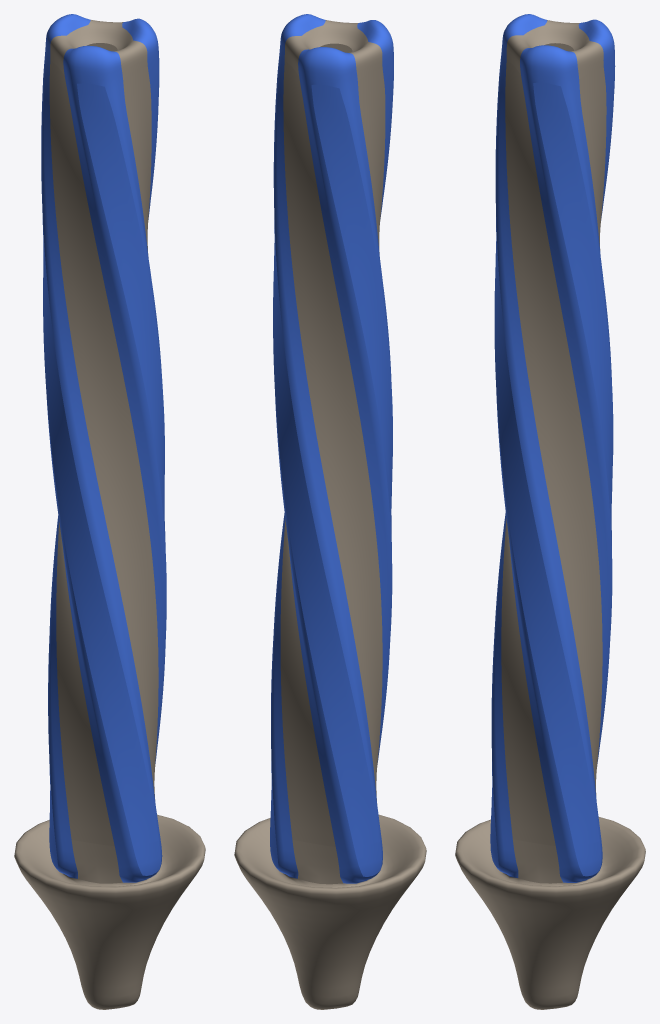
File: blue-candle.glb
The picture shows the model from 3 angles, left to right: view 1: azimuth 30°, elevation 25°; view 2: azimuth 150°, elevation 25°; view 3: azimuth 270°, elevation 25°; orthographic projection.
Visible parts, largest first — view 1: 10868_birthday-cake_v3.001; view 2: 10868_birthday-cake_v3.001; view 3: 10868_birthday-cake_v3.001.
Boxes of the visible parts, x1=… form: 10868_birthday-cake_v3.001: x1=14, y1=14, x2=205, y2=1009; 10868_birthday-cake_v3.001: x1=234, y1=14, x2=426, y2=1009; 10868_birthday-cake_v3.001: x1=455, y1=14, x2=645, y2=1009.
Bounding box in the file's own units: 0.4667 × 2.62 × 0.4667.
